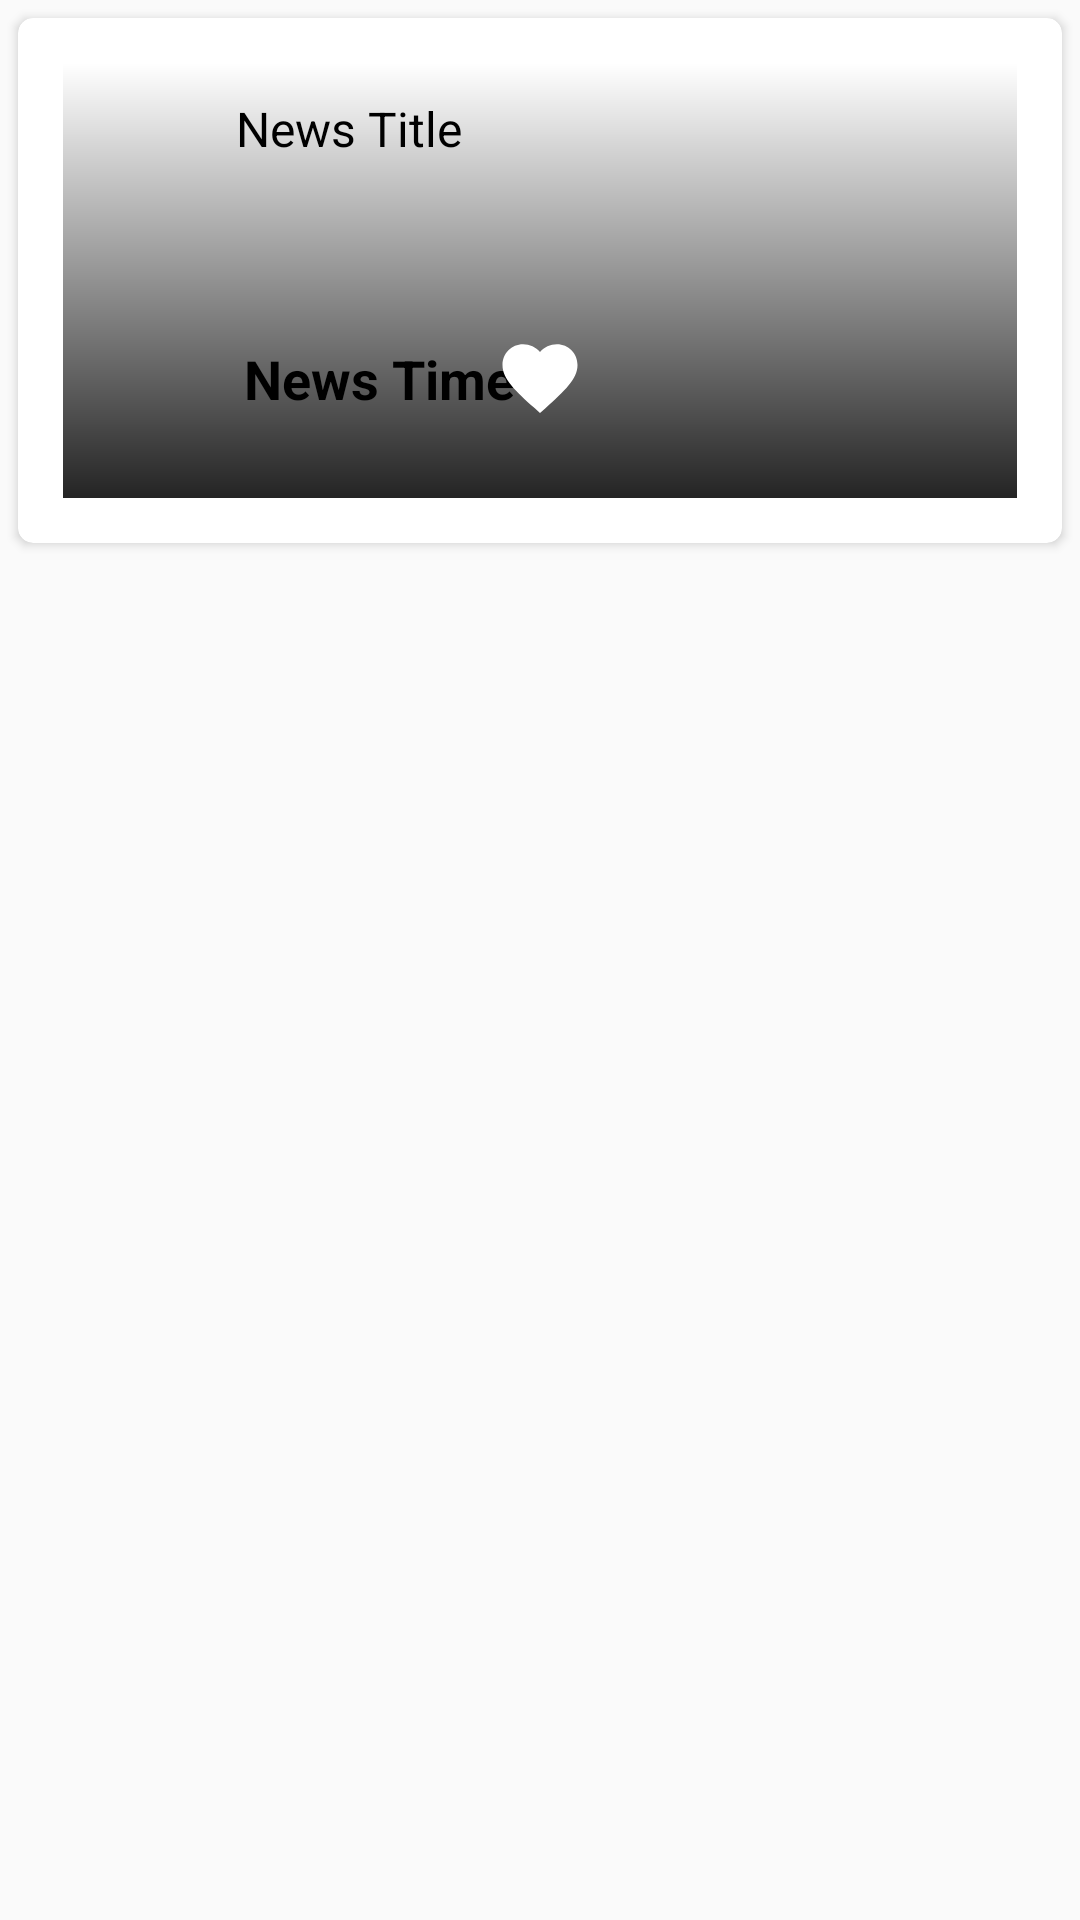

Screen size 1080px x 1920px. Icon name, then its center in pixels as (x=x, y=y):
favorite: (x=540, y=378)
